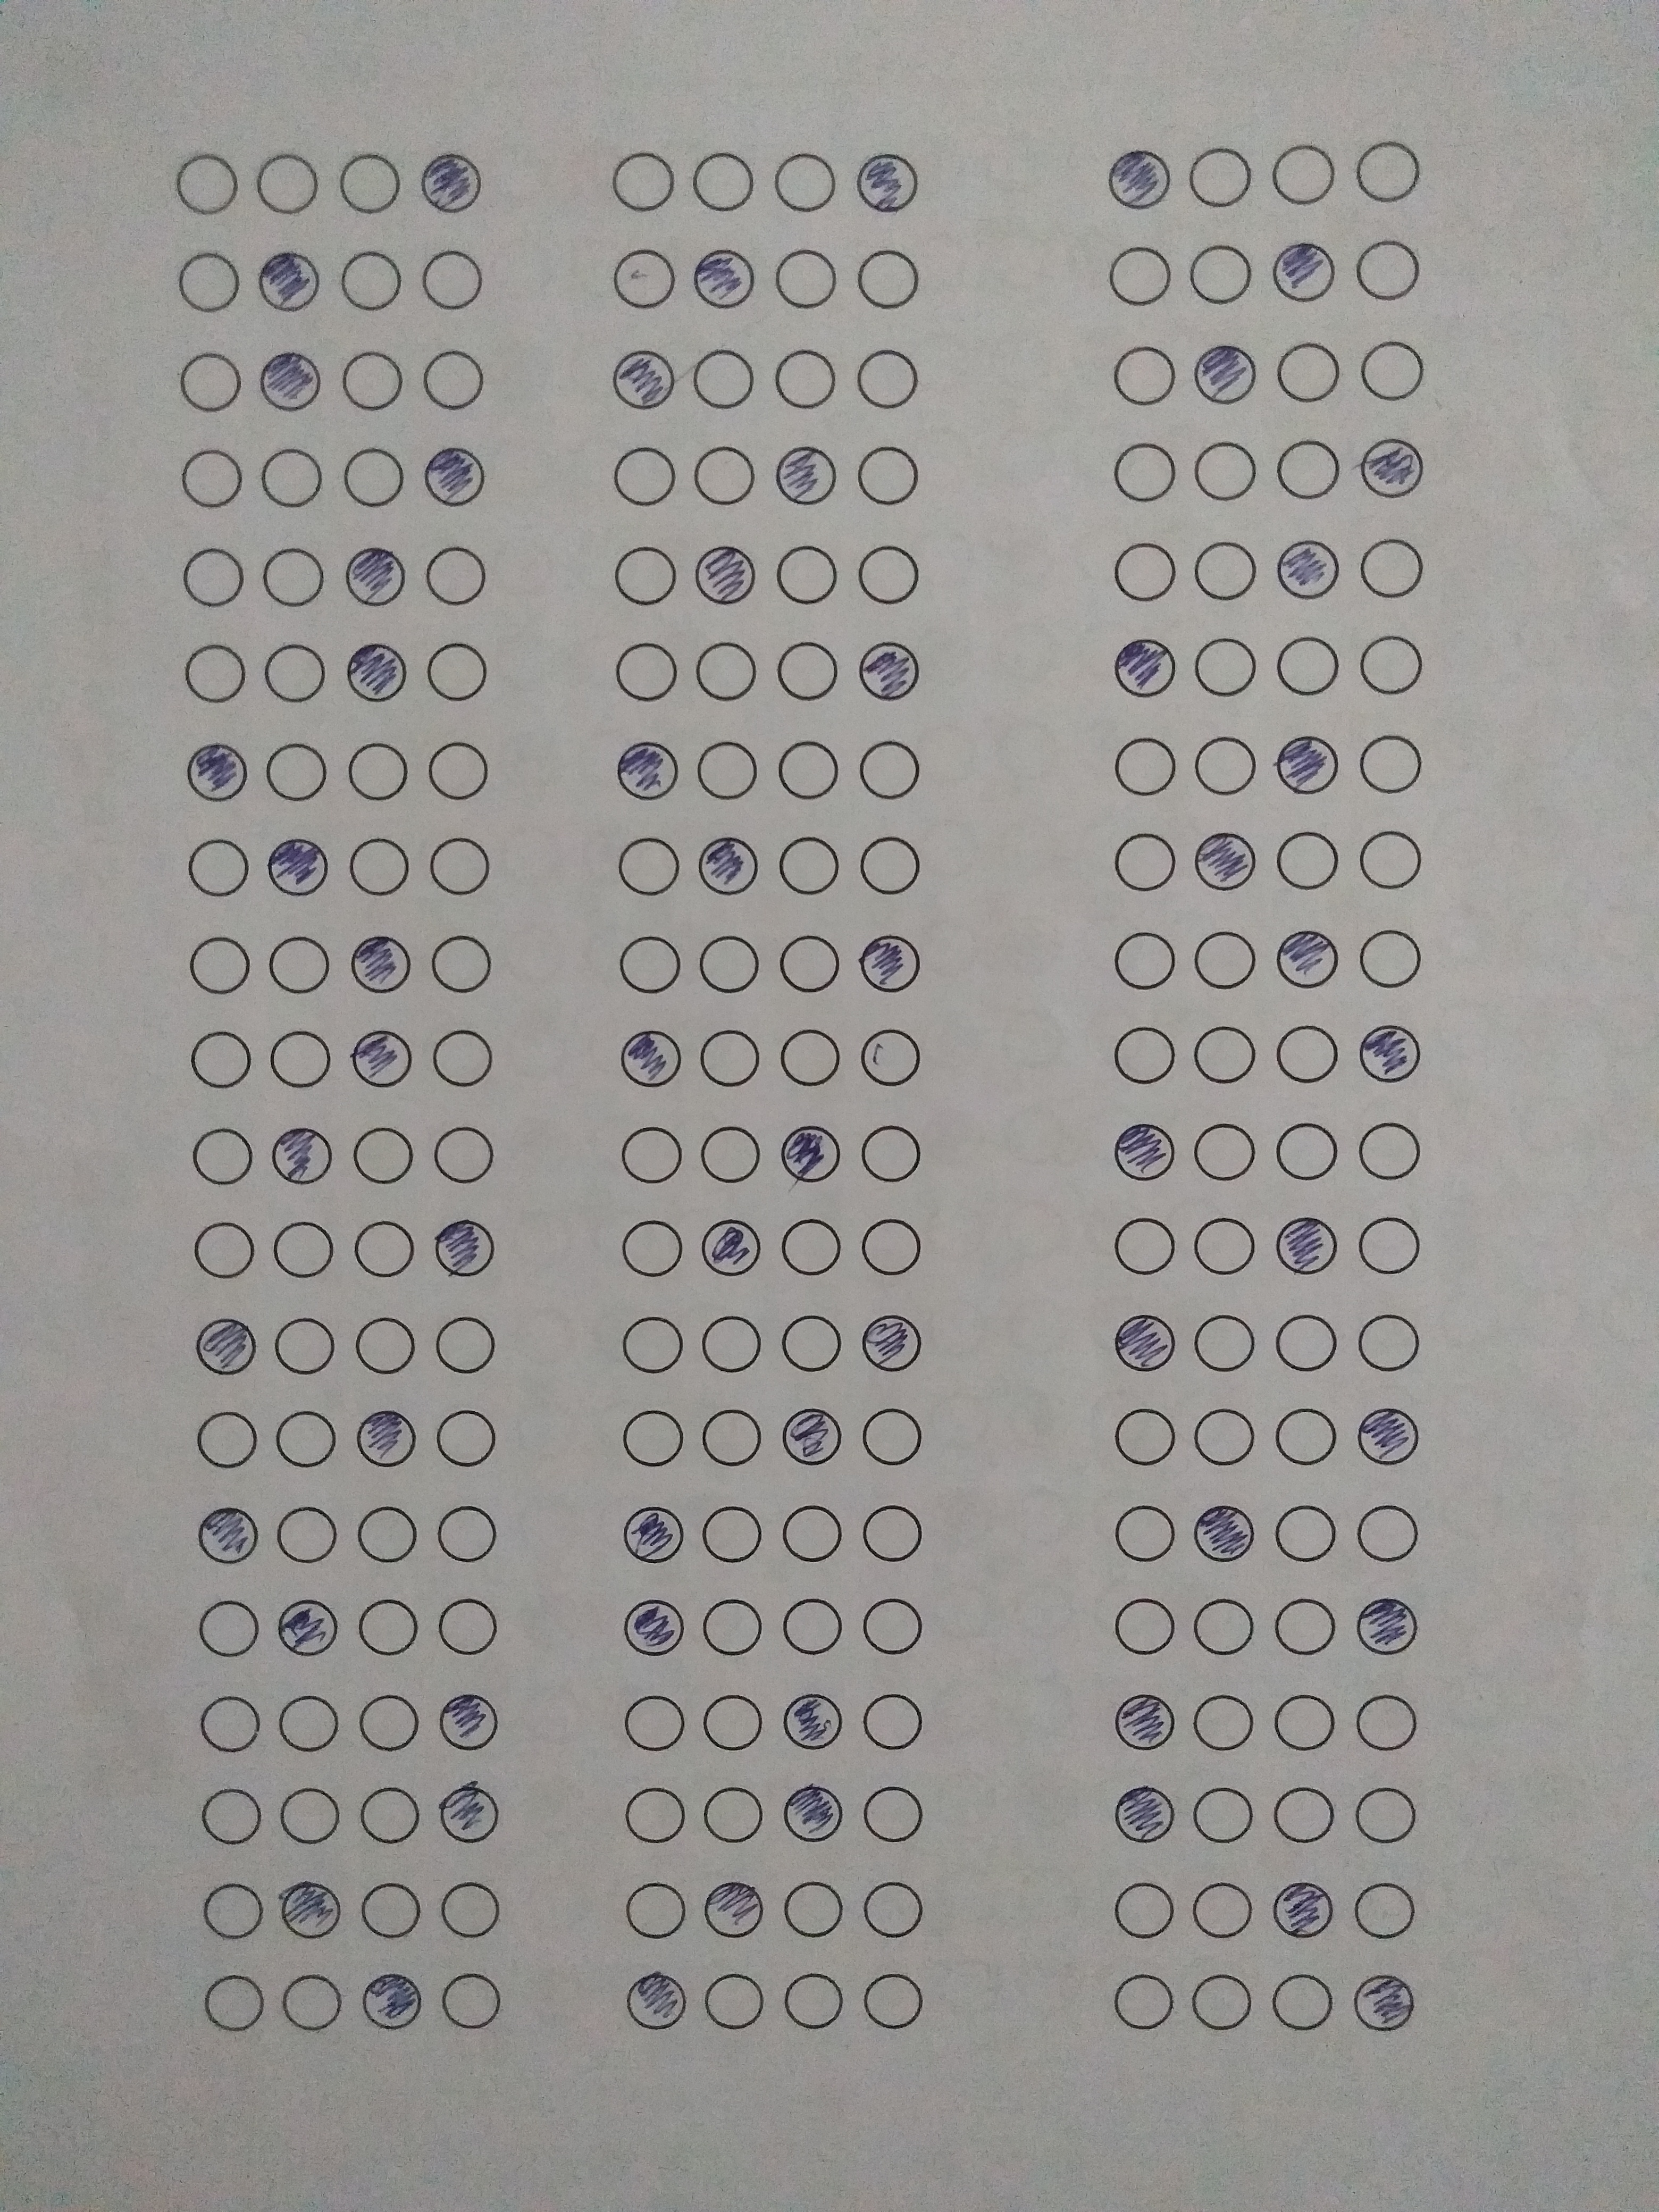not-c: (167, 150, 242, 221), (425, 833, 500, 904), (338, 836, 413, 907), (418, 738, 493, 810), (416, 637, 491, 709), (335, 442, 410, 514), (336, 152, 411, 223), (176, 543, 251, 615), (171, 345, 246, 416), (852, 343, 927, 415), (688, 735, 763, 806), (688, 143, 763, 214), (425, 1024, 500, 1096), (852, 1116, 927, 1188), (694, 1024, 769, 1096), (770, 829, 845, 900), (772, 634, 847, 705), (770, 540, 845, 611), (859, 1872, 934, 1944), (859, 1963, 934, 2034), (430, 1592, 505, 1663), (430, 1500, 505, 1571), (355, 1878, 430, 1949), (350, 1594, 425, 1665), (267, 1212, 342, 1284), (195, 1876, 270, 1947), (197, 1780, 272, 1851), (190, 1212, 265, 1284), (857, 1402, 932, 1474), (1108, 1874, 1183, 1946), (617, 1214, 692, 1285), (695, 1400, 770, 1472), (695, 1501, 770, 1573), (694, 1588, 769, 1660), (701, 1689, 775, 1761), (859, 1780, 934, 1851), (619, 1310, 692, 1381), (340, 738, 413, 810), (422, 545, 495, 617), (416, 347, 490, 418), (336, 348, 410, 420), (253, 442, 326, 514), (253, 150, 326, 221), (176, 637, 249, 709), (174, 441, 247, 512), (171, 246, 244, 317), (772, 341, 845, 413), (852, 240, 925, 312), (770, 239, 843, 310), (770, 148, 843, 219), (690, 441, 763, 512), (345, 1116, 418, 1188), (425, 927, 498, 998), (267, 1024, 340, 1096), (188, 1120, 261, 1191), (186, 932, 260, 1003), (769, 1022, 842, 1094), (694, 1118, 767, 1190), (615, 1118, 688, 1190), (615, 930, 688, 1001), (849, 829, 922, 900), (850, 737, 924, 808), (852, 540, 925, 611), (620, 1782, 694, 1853), (624, 1874, 697, 1946), (779, 1963, 852, 2034), (701, 1965, 774, 2036), (432, 1968, 505, 2040), (430, 1402, 504, 1474), (275, 1780, 349, 1851), (354, 1684, 427, 1756), (354, 1496, 427, 1568), (272, 1402, 345, 1474), (350, 1217, 423, 1289), (277, 1966, 350, 2038), (272, 1500, 345, 1571), (195, 1688, 268, 1759), (192, 1594, 265, 1665), (190, 1404, 263, 1475), (1108, 1963, 1182, 2034), (779, 1306, 852, 1378), (852, 1211, 925, 1282), (1112, 1588, 1185, 1660), (254, 742, 329, 812), (685, 345, 760, 415), (610, 636, 685, 705), (605, 442, 680, 512), (701, 1784, 775, 1853), (777, 1878, 852, 1947), (434, 1874, 509, 1944), (354, 1782, 429, 1851), (349, 1312, 423, 1381), (695, 1308, 770, 1378), (781, 1595, 856, 1665), (774, 1501, 849, 1571), (769, 1209, 843, 1278), (857, 1590, 932, 1660), (859, 1688, 934, 1757), (608, 146, 681, 216), (418, 247, 491, 317), (333, 244, 406, 314), (256, 641, 329, 711), (256, 543, 329, 613), (179, 834, 253, 904), (852, 439, 925, 509), (688, 636, 762, 705), (610, 833, 683, 902), (610, 540, 683, 610), (606, 244, 680, 314), (430, 1122, 504, 1191), (267, 934, 340, 1003), (185, 1024, 258, 1094), (852, 1028, 925, 1097), (775, 932, 849, 1001), (697, 932, 770, 1001), (767, 735, 840, 805), (430, 1312, 504, 1381), (272, 1689, 345, 1759), (267, 1308, 340, 1378), (200, 1966, 274, 2036), (615, 1400, 688, 1470), (615, 1688, 688, 1757), (857, 1500, 931, 1569), (1272, 1310, 1349, 1376), (1108, 1402, 1185, 1468), (1107, 538, 1185, 603), (1103, 244, 1178, 310), (1187, 927, 1262, 993), (1105, 1022, 1180, 1089), (1105, 928, 1180, 995), (1354, 827, 1429, 894), (1354, 732, 1429, 798), (1351, 634, 1425, 700), (1354, 536, 1429, 603), (1356, 338, 1431, 404), (1354, 138, 1429, 204), (1270, 827, 1345, 894), (1269, 435, 1344, 502), (1272, 338, 1347, 404), (1107, 831, 1182, 897), (1267, 143, 1342, 209), (1188, 733, 1263, 799), (1188, 634, 1263, 700), (1107, 441, 1182, 507), (1188, 538, 1263, 604), (1187, 439, 1262, 505), (1182, 242, 1256, 308), (1183, 145, 1258, 211), (1270, 1498, 1345, 1564), (1269, 1402, 1344, 1468), (1188, 1406, 1263, 1472), (1352, 1312, 1427, 1378), (1188, 1310, 1263, 1376), (1354, 1212, 1429, 1278), (1190, 1211, 1265, 1277), (1272, 1115, 1347, 1181), (1185, 1118, 1260, 1184), (1269, 1022, 1344, 1089), (1187, 1021, 1262, 1087), (1108, 1503, 1183, 1569), (1110, 1214, 1185, 1280), (1265, 1965, 1340, 2031), (1347, 1878, 1422, 1944), (1187, 1968, 1262, 2034), (1187, 1782, 1262, 1848), (1183, 1689, 1258, 1756), (1190, 1595, 1265, 1662), (1267, 1784, 1342, 1850), (1270, 1592, 1345, 1658), (1267, 1693, 1342, 1759), (1349, 1782, 1424, 1848), (1349, 1691, 1424, 1757), (1349, 1501, 1424, 1568), (1352, 237, 1427, 301), (1272, 636, 1347, 700), (1110, 735, 1185, 799), (1107, 345, 1182, 409), (1352, 1120, 1427, 1184), (1354, 925, 1429, 989), (1187, 1879, 1262, 1944)
taken-c: (1274, 733, 1342, 799), (1270, 1874, 1337, 1940), (260, 345, 324, 413), (613, 738, 681, 803), (1359, 437, 1427, 502), (418, 152, 484, 216), (1114, 1120, 1180, 1184), (1192, 343, 1258, 408), (1352, 1592, 1419, 1656), (1351, 1970, 1417, 2034), (268, 1123, 336, 1186), (690, 543, 758, 606), (859, 637, 922, 705), (857, 934, 925, 996), (1272, 927, 1340, 989), (1110, 637, 1178, 700), (1107, 148, 1175, 211), (343, 542, 408, 606), (354, 1406, 418, 1470), (279, 1876, 343, 1940), (854, 152, 920, 214), (610, 348, 676, 411), (699, 831, 762, 897), (624, 1968, 690, 2031), (1274, 1214, 1340, 1277), (1190, 1501, 1256, 1564), (1190, 831, 1258, 892), (1110, 1312, 1178, 1372), (260, 247, 322, 312), (423, 444, 486, 509), (188, 738, 251, 803), (1359, 1022, 1424, 1085), (197, 1501, 261, 1564), (1114, 1689, 1176, 1754), (265, 834, 331, 895), (1274, 242, 1340, 303), (274, 1595, 340, 1656), (352, 932, 415, 995), (781, 1123, 843, 1186), (352, 1028, 416, 1089), (775, 444, 840, 505), (1277, 536, 1342, 597), (782, 1689, 847, 1750), (622, 1505, 687, 1566), (861, 1312, 925, 1372), (699, 1216, 763, 1277), (779, 1406, 845, 1465), (1358, 1407, 1424, 1467), (430, 1219, 498, 1277), (619, 1028, 681, 1089), (437, 1782, 500, 1843), (361, 1968, 423, 2029), (624, 1595, 687, 1656), (1115, 1782, 1178, 1843), (437, 1691, 502, 1750), (347, 641, 408, 702), (694, 247, 755, 308), (193, 1315, 256, 1374), (782, 1784, 845, 1843), (701, 1879, 765, 1937)
